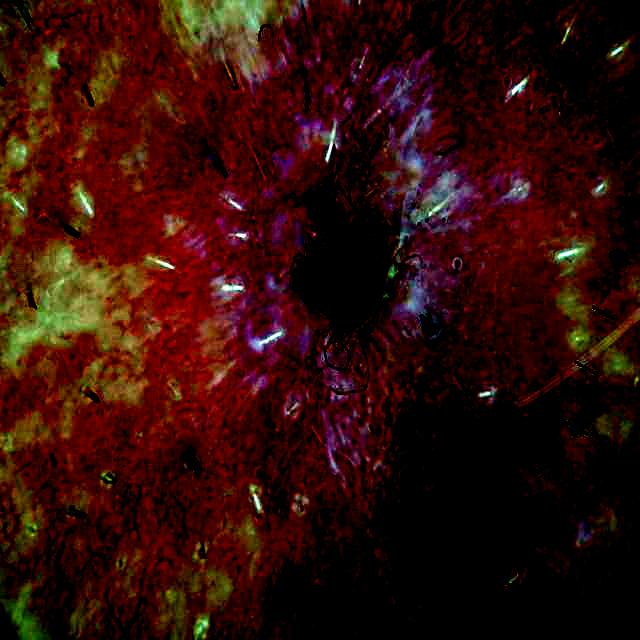AKIEC: (182, 47, 538, 521)
